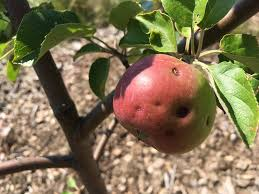damaged_apple: (113, 49, 221, 159)
